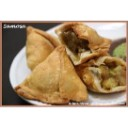samosa: (14, 46, 87, 101), (25, 26, 59, 69)
